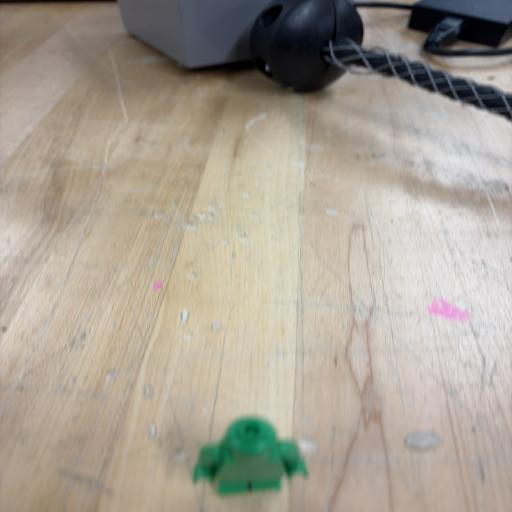Green-Lego: (193, 417, 307, 495)
